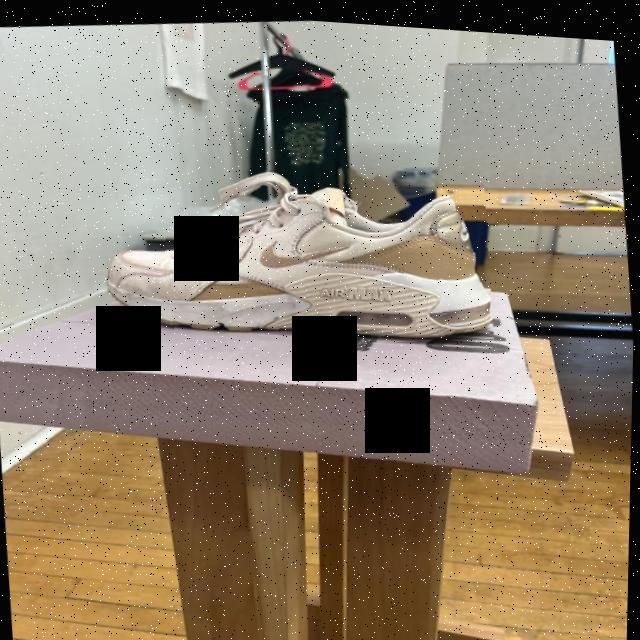shoe: (90, 139, 499, 369)
